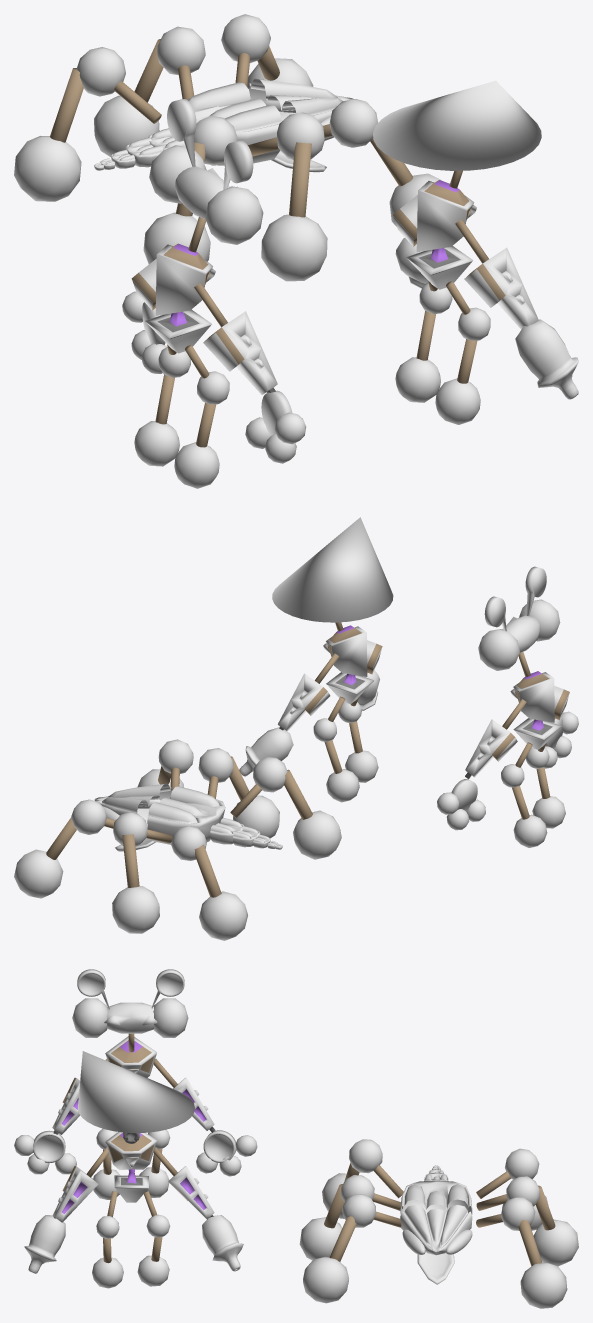
Rendered from waterbears.fbx.
3 views of the same model, one above another, from view 1: azimuth 30°, elevation 25°; view 2: azimuth 150°, elevation 25°; view 3: azimuth 270°, elevation 25° (orthographic). The views are drawn at different scales.
Parts seen in each view (by area): view 1: Cone, Cylinder.039, Cylinder.035, lobsta, Cylinder.033, waterbear, firekami, Cube.042, Cube.065, Cube.045, Icosphere.004, Cylinder.034 (+30 smaller); view 2: Cone, lobsta, Cylinder.033, Cylinder.035, Cylinder.041, Cylinder.037, waterbear, firekami, Cylinder.039, Cube.066, Cube.073, Cube.053 (+22 smaller); view 3: Cone, Cube.066, Cylinder.037, Cylinder.043, Cylinder.033, lobsta, Cylinder.039, Cube.042, Cube.046, firekami, Icosphere.003, waterbear (+25 smaller).
Part boxes in pixels (x1=…): Cone: x1=373, y1=80, x2=541, y2=170; Cylinder.039: x1=261, y1=142, x2=327, y2=281; Cylinder.035: x1=14, y1=68, x2=83, y2=201; lobsta: x1=187, y1=82, x2=281, y2=165; Cylinder.033: x1=94, y1=39, x2=163, y2=156; waterbear: x1=155, y1=243, x2=215, y2=315; firekami: x1=416, y1=180, x2=476, y2=252; Cube.042: x1=515, y1=319, x2=578, y2=399; Cube.065: x1=203, y1=311, x2=277, y2=394; Cube.045: x1=464, y1=247, x2=538, y2=329; Icosphere.004: x1=205, y1=186, x2=263, y2=244; Cylinder.034: x1=76, y1=47, x2=161, y2=123; Cone: x1=272, y1=517, x2=393, y2=622; lobsta: x1=147, y1=786, x2=225, y2=844; Cylinder.033: x1=112, y1=834, x2=159, y2=933; Cylinder.035: x1=194, y1=844, x2=247, y2=940; Cylinder.041: x1=284, y1=769, x2=341, y2=859; Cylinder.037: x1=14, y1=817, x2=76, y2=898; waterbear: x1=510, y1=671, x2=554, y2=722; firekami: x1=323, y1=625, x2=367, y2=676; Cylinder.039: x1=229, y1=756, x2=279, y2=838; Cube.066: x1=94, y1=783, x2=171, y2=826; Cube.073: x1=465, y1=719, x2=517, y2=779; Cube.053: x1=278, y1=673, x2=330, y2=731; Cone: x1=77, y1=1051, x2=194, y2=1133; Cube.066: x1=400, y1=1205, x2=472, y2=1255; Cylinder.037: x1=518, y1=1220, x2=567, y2=1308; Cylinder.043: x1=303, y1=1216, x2=356, y2=1303; Cylinder.033: x1=533, y1=1185, x2=578, y2=1266; lobsta: x1=400, y1=1180, x2=472, y2=1214; Cylinder.039: x1=299, y1=1184, x2=344, y2=1260; Cube.042: x1=24, y1=1215, x2=65, y2=1273; Cube.046: x1=202, y1=1215, x2=243, y2=1271; firekami: x1=105, y1=1132, x2=156, y2=1170; Icosphere.003: x1=104, y1=1002, x2=157, y2=1033; waterbear: x1=105, y1=1036, x2=156, y2=1077.
Size of the model in its own units: 843 by 626 by 1315.
